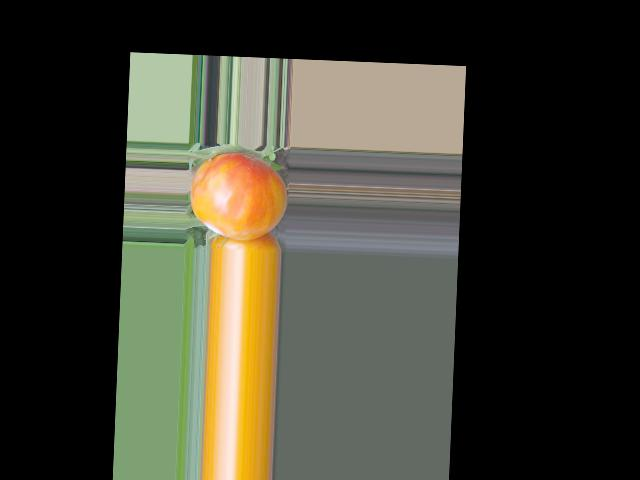tomato: (188, 151, 289, 241)
